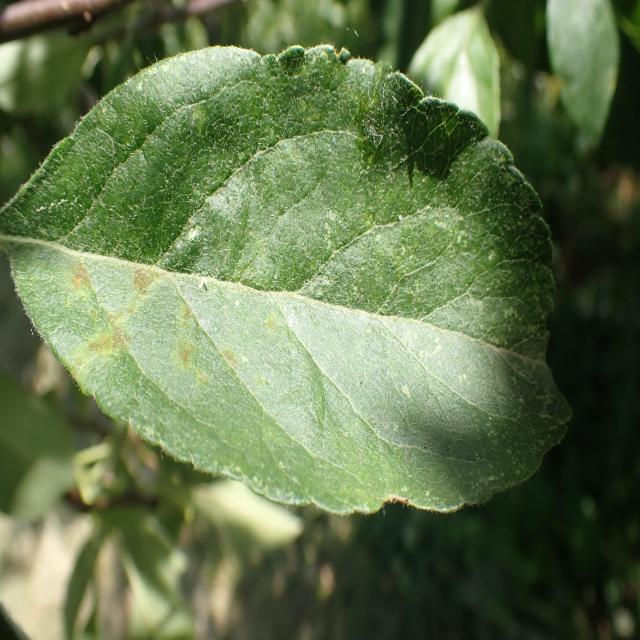scab: (44, 76, 524, 463)
